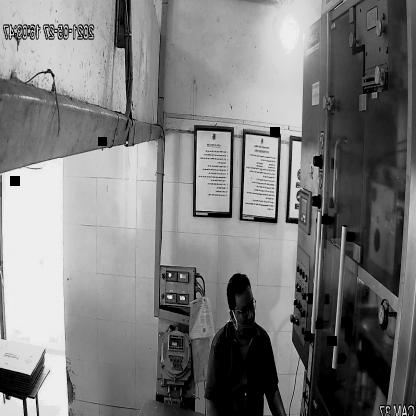goggles: (229, 296, 259, 319)
